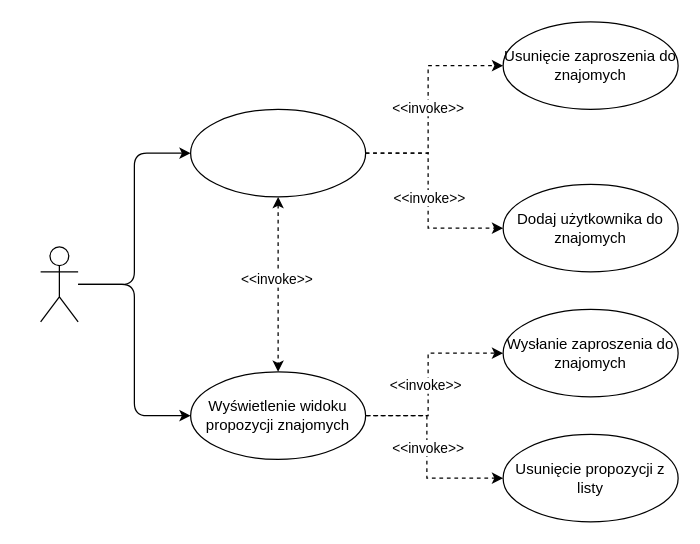
The diagram is 700 pixels wide and 544 high, and some of its shapes have lost their labels. Here are the shapes that lost their labels. From the top down, the centre of each, then its label:
At pixel 277 152: "Wyświetlenie widoku zaproszeń do znajomych".
At pixel 58 284: "Użytkownik".
